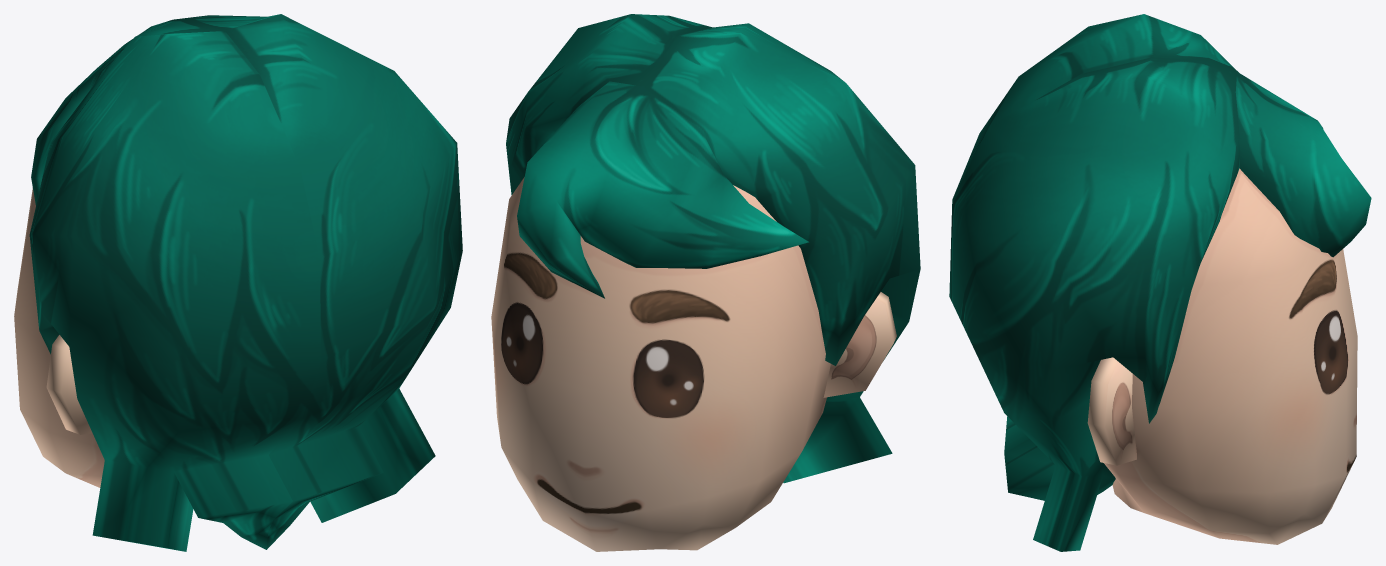
File: curious_girl_head_5.glb
3 renders of one model, left to right at view 1: azimuth 30°, elevation 25°; view 2: azimuth 150°, elevation 25°; view 3: azimuth 270°, elevation 25°, orthographic. The views are drawn at different scales.
Visible parts, largest first — view 1: head; view 2: head; view 3: head.
Boxes of the visible parts, x1,y1,x2,y2 form: head: [14, 14, 462, 551]; head: [491, 14, 920, 551]; head: [949, 14, 1371, 551].
Bounding box in the file's own units: 0.3505 × 0.4213 × 0.3352.
Materials: 2 (1 with a texture image).
